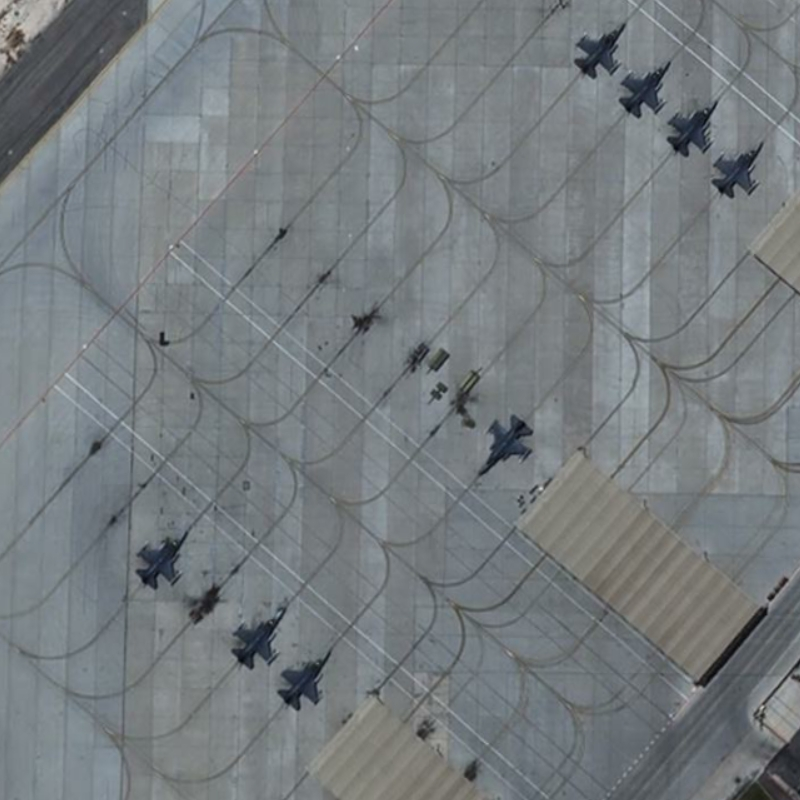A5: (477, 404, 542, 483), (126, 526, 195, 592), (227, 602, 290, 673), (568, 16, 633, 83), (711, 134, 768, 209), (273, 645, 337, 711), (616, 57, 676, 126), (665, 95, 723, 162)
